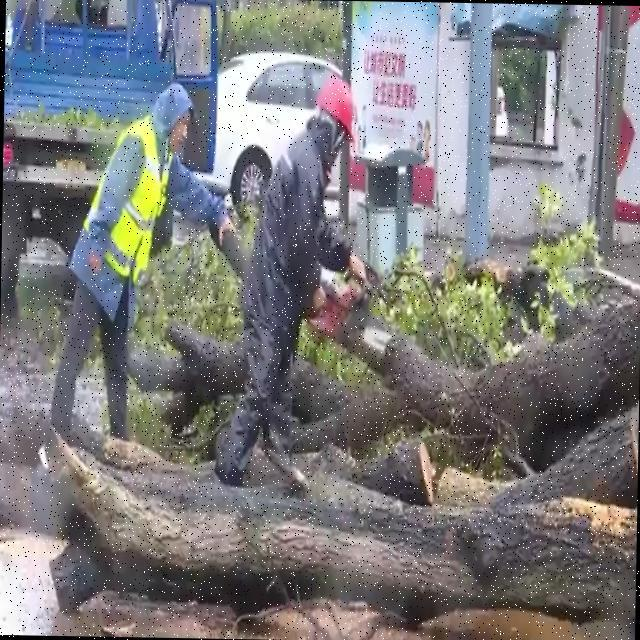fallen_object: (33, 454, 638, 614), (295, 304, 640, 456)
